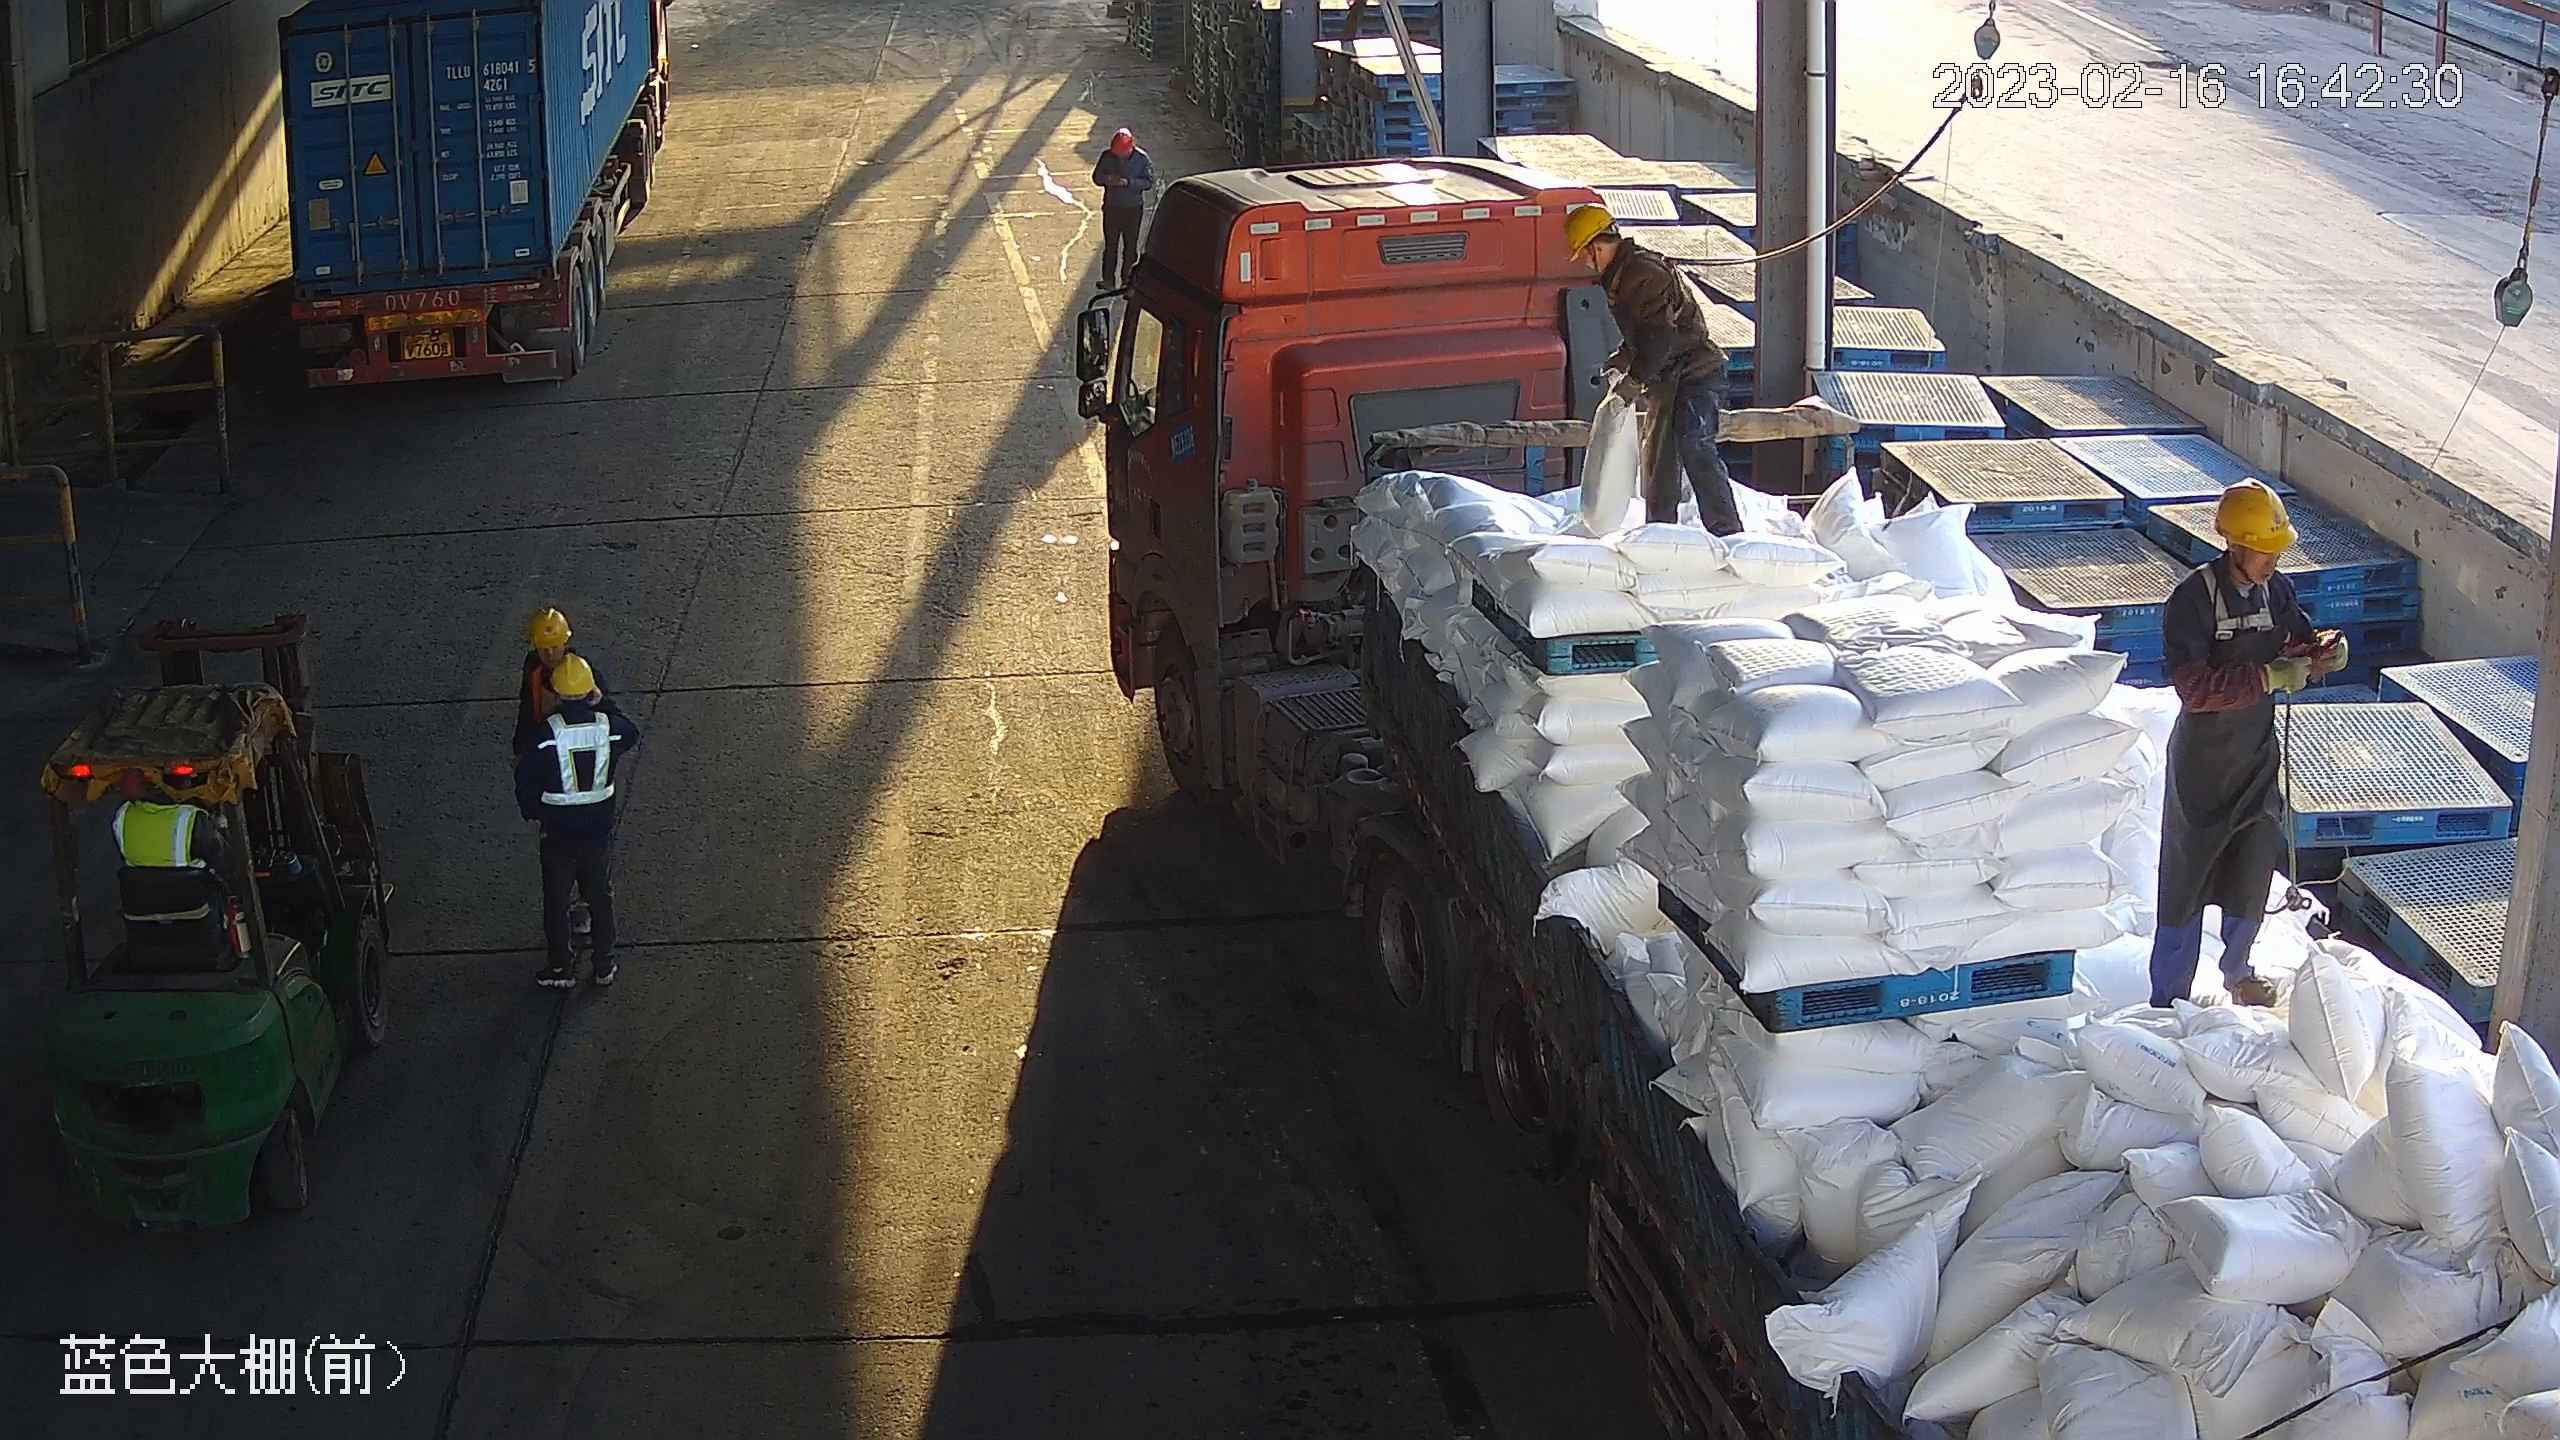belt: (1607, 243, 1703, 327), (2187, 565, 2284, 641)
head: (2162, 477, 2314, 633), (1565, 203, 1679, 322), (532, 660, 628, 749)
helmet: (2214, 481, 2300, 551), (1563, 199, 1616, 260), (551, 658, 596, 695), (529, 609, 572, 644), (1108, 128, 1136, 155)
people: (2142, 479, 2348, 1009), (1562, 202, 1746, 540), (517, 661, 629, 987), (1092, 127, 1159, 293)
truck: (1067, 154, 2560, 1440), (272, 1, 690, 396)
